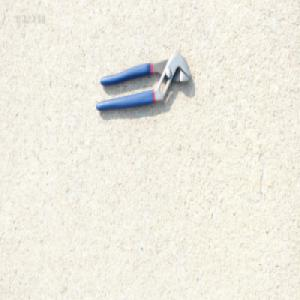Pliers: (95, 54, 192, 114)
